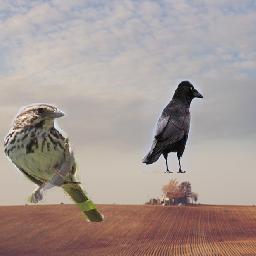Crow: (143, 79, 204, 173)
Sparrow: (4, 104, 104, 223)
